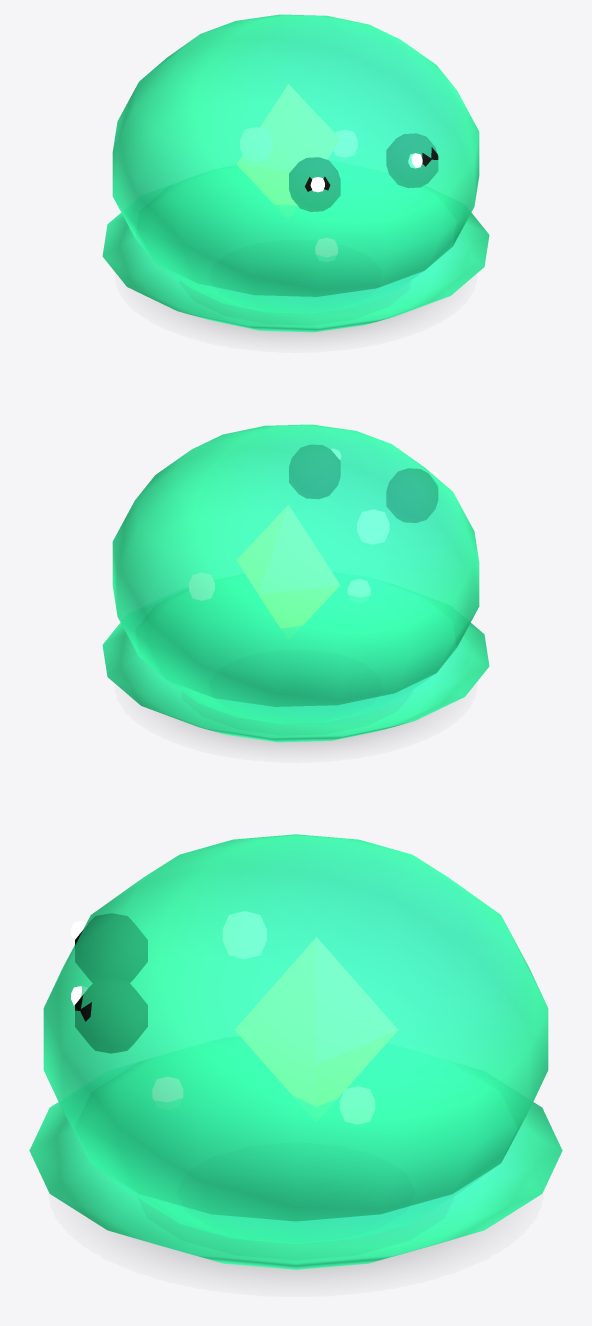
File: slime.glb
3 views of the same model, one above another, from view 1: azimuth 30°, elevation 25°; view 2: azimuth 150°, elevation 25°; view 3: azimuth 270°, elevation 25° (orthographic). The views are drawn at different scales.
Visible parts, largest first — view 1: slime_jelly, slime_slime_core, slime_slime_eye, slime_slime_shine; view 2: slime_jelly, slime_slime_core, slime_slime_eye, slime_slime_shine; view 3: slime_jelly, slime_slime_core, slime_slime_eye, slime_slime_shine.
Part boxes in pixels (x1=…): slime_jelly: x1=102, y1=14, x2=489, y2=332; slime_slime_core: x1=237, y1=84, x2=339, y2=205; slime_slime_eye: x1=289, y1=133, x2=438, y2=211; slime_slime_shine: x1=240, y1=127, x2=422, y2=257; slime_jelly: x1=102, y1=424, x2=489, y2=742; slime_slime_core: x1=237, y1=505, x2=339, y2=628; slime_slime_eye: x1=289, y1=445, x2=437, y2=522; slime_slime_shine: x1=189, y1=449, x2=438, y2=600; slime_jelly: x1=29, y1=834, x2=562, y2=1269; slime_slime_core: x1=235, y1=937, x2=397, y2=1106; slime_slime_eye: x1=75, y1=913, x2=147, y2=1053; slime_slime_shine: x1=71, y1=911, x2=374, y2=1124.
Bounding box in the file's own units: 1.1 × 0.76 × 1.1.
5 materials, 1 textured.
